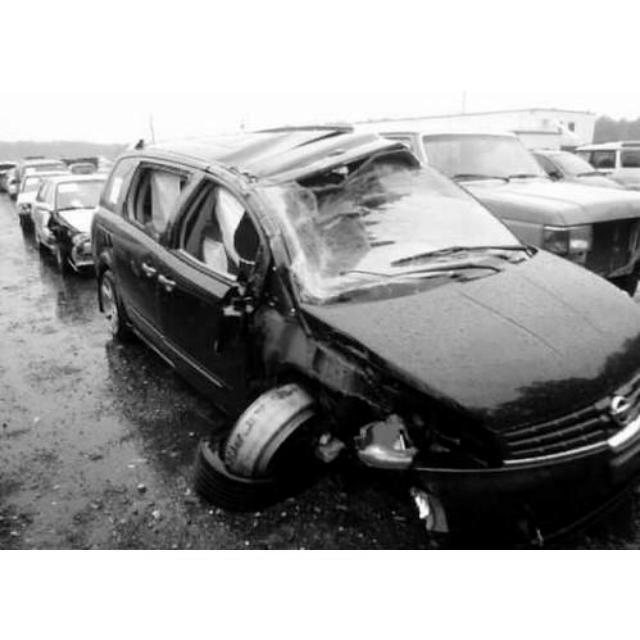Front-windscreen-damage: (244, 159, 476, 278)
